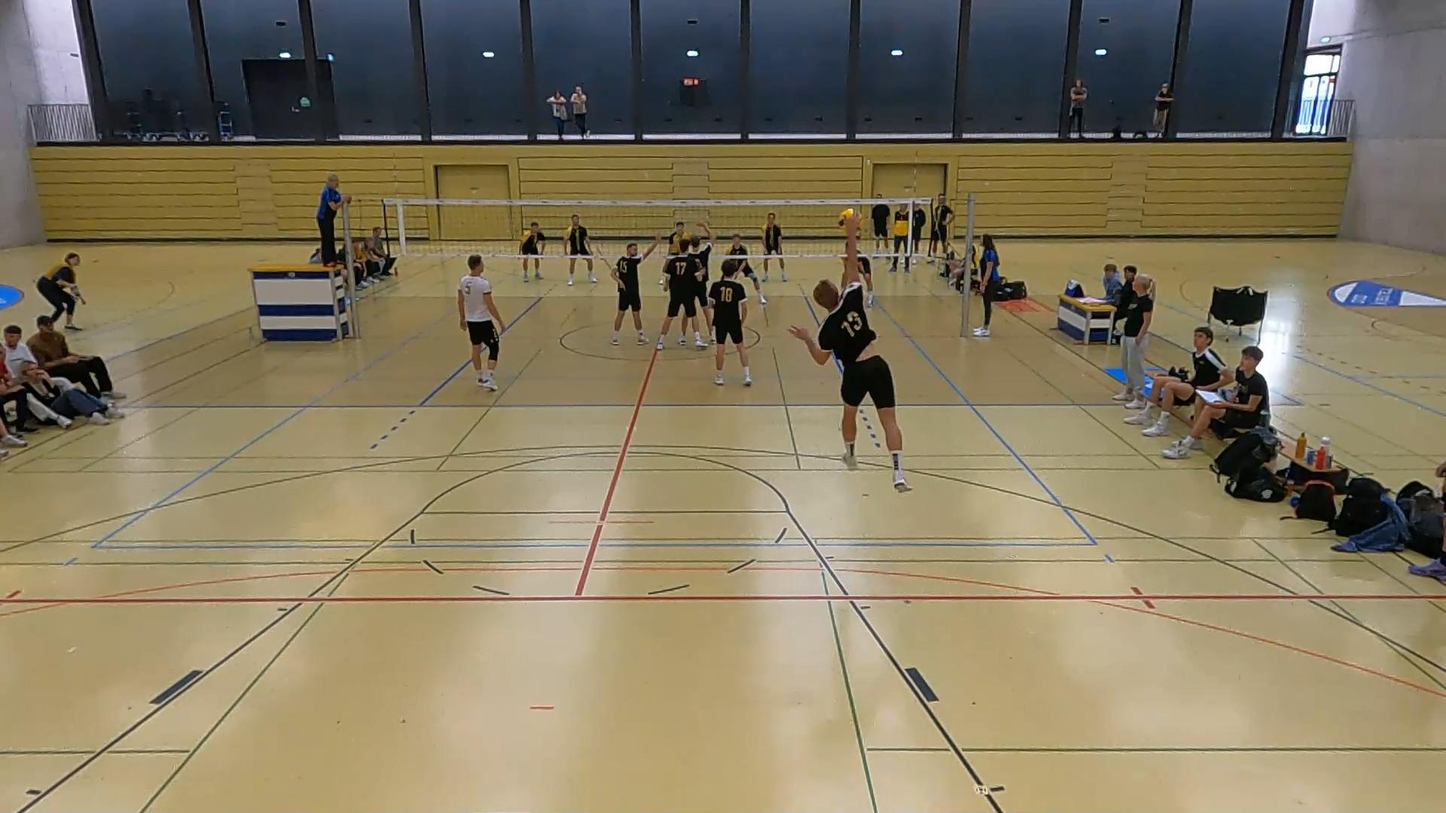battuta: (783, 212, 913, 503)
